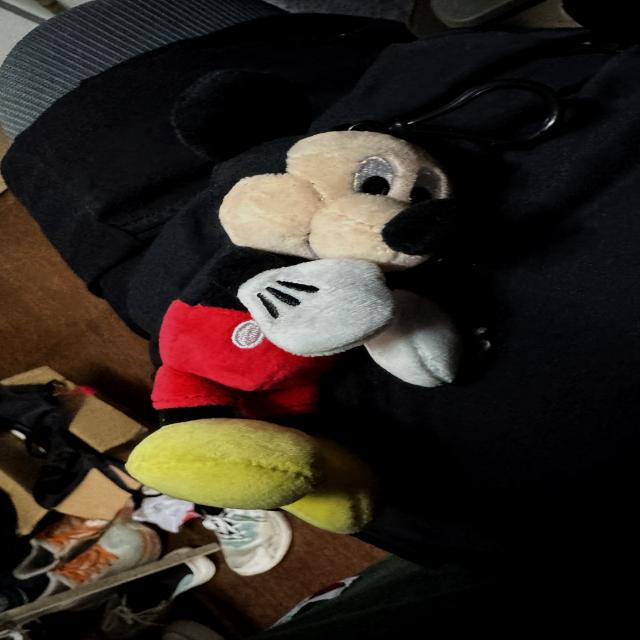mickey: (128, 123, 465, 532)
